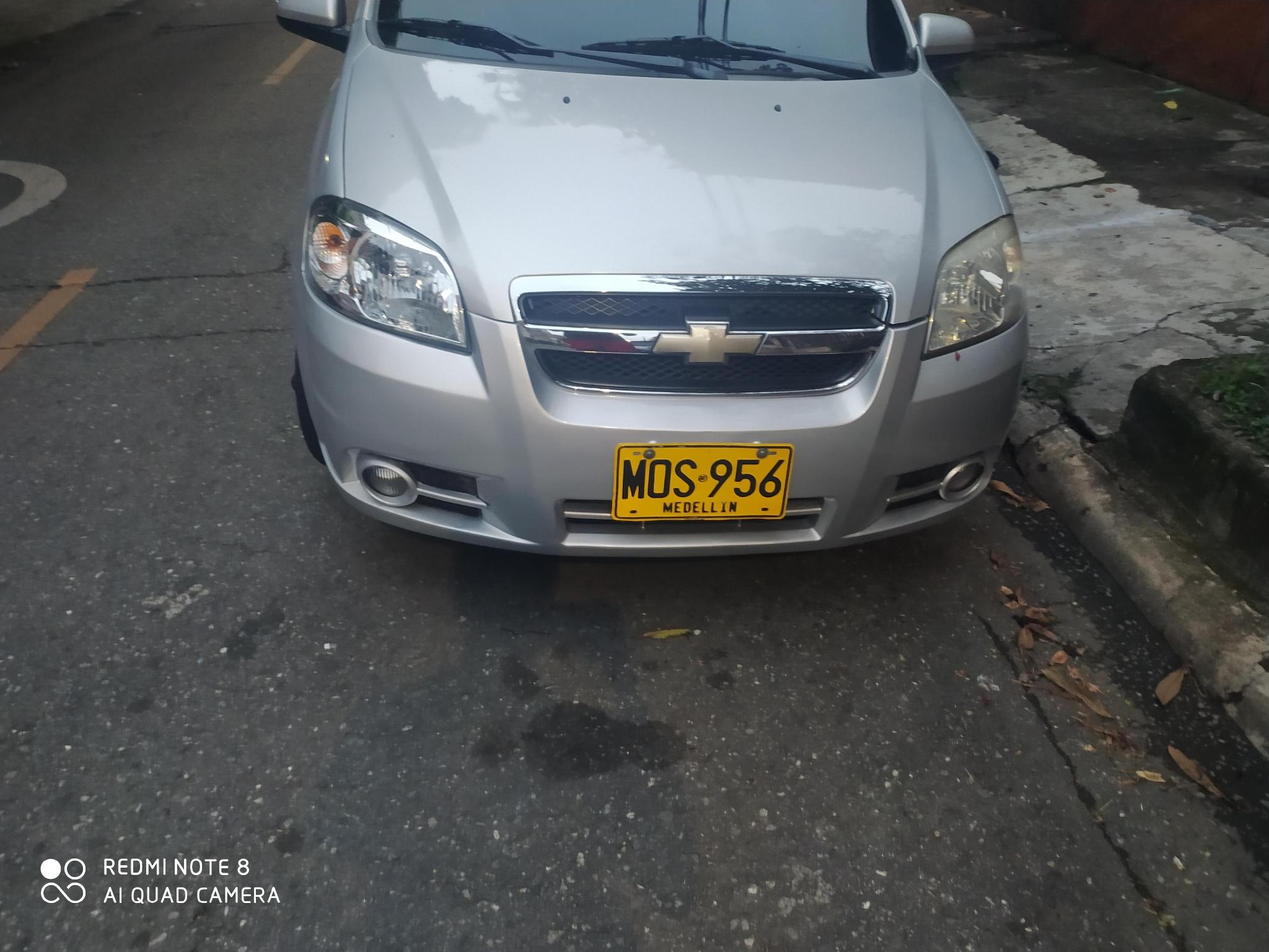placa: (603, 436, 800, 527)
